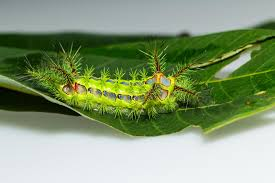Pest! (nettle_caterpillar): (41, 53, 195, 114)
